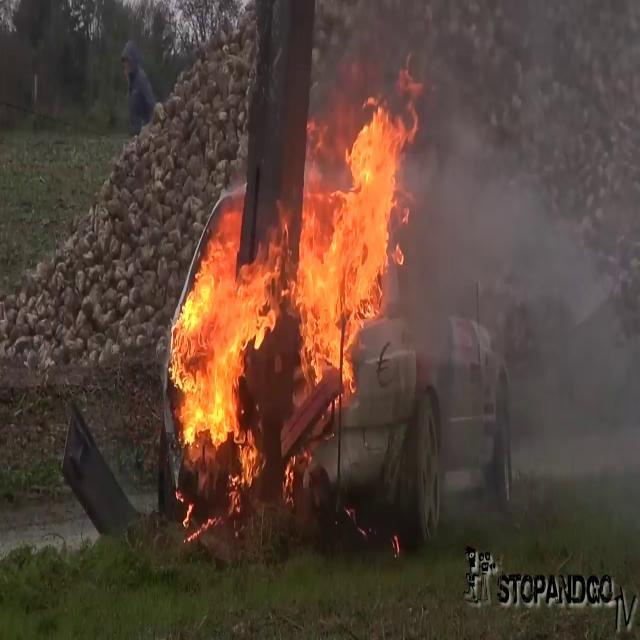Fire: (167, 92, 419, 476)
Smoke: (411, 104, 640, 528)
